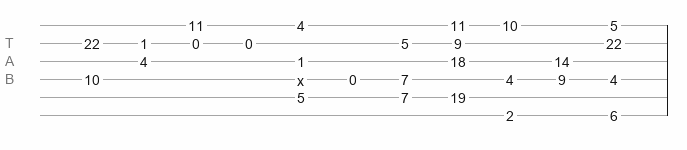0: (192, 36, 200, 46), (245, 36, 253, 46), (349, 72, 357, 82)
1: (140, 36, 148, 46), (297, 54, 305, 64)
10: (84, 72, 100, 82), (502, 18, 518, 28)
11: (188, 18, 204, 28), (450, 18, 466, 28)
14: (554, 54, 570, 64)
18: (450, 54, 466, 64)
19: (450, 90, 466, 100)
2: (506, 108, 514, 118)
22: (84, 36, 100, 46), (606, 36, 622, 46)
4: (140, 54, 148, 64), (297, 18, 305, 28), (506, 72, 514, 82), (610, 72, 618, 82)
5: (297, 90, 305, 100), (401, 36, 409, 46), (610, 18, 618, 28)
6: (610, 108, 618, 118)
7: (401, 90, 409, 100), (401, 72, 409, 82)
9: (454, 36, 462, 46), (558, 72, 566, 82)
x: (297, 73, 304, 81)
